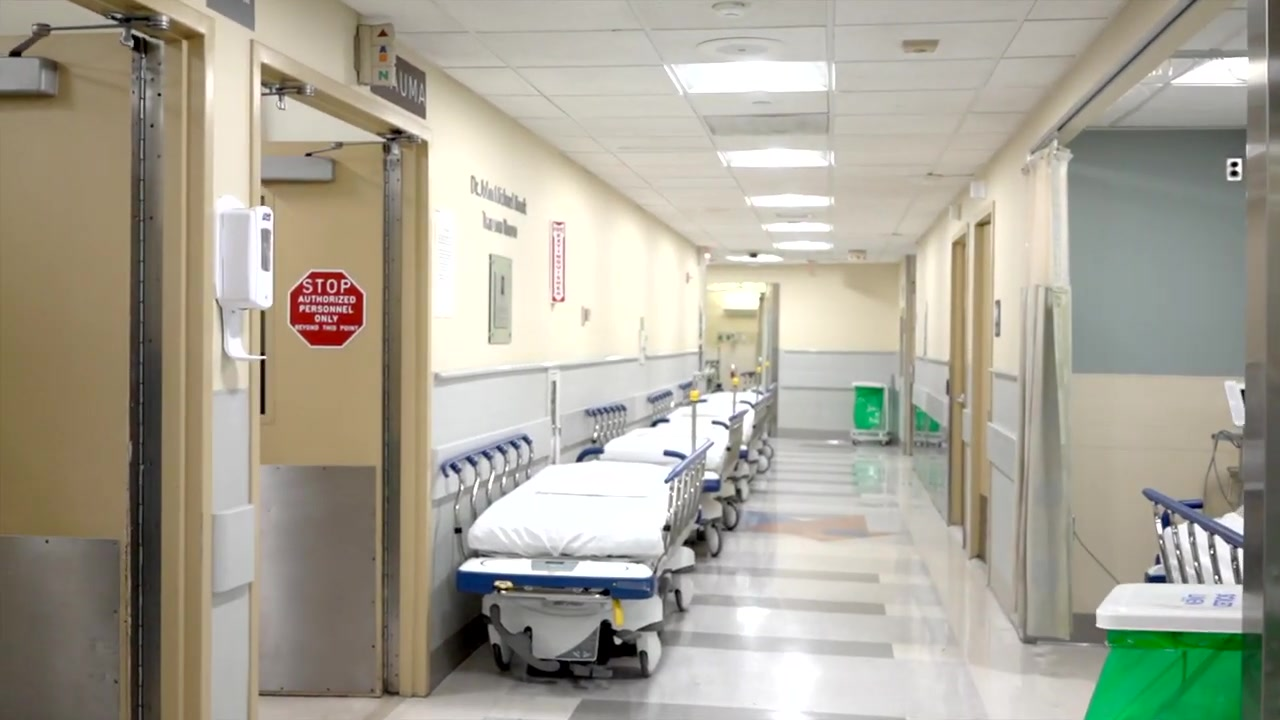bedrail: (440, 433, 535, 558), (1140, 485, 1238, 578), (656, 438, 717, 554), (584, 403, 628, 450), (645, 388, 674, 420), (728, 408, 749, 452)
curtain: (1020, 141, 1075, 646)
dispenser: (212, 200, 273, 363)
door_handle: (955, 395, 967, 406)
hospital_bed: (448, 447, 716, 682), (574, 419, 748, 531), (646, 400, 761, 497)
waste_bin: (847, 376, 895, 447)
